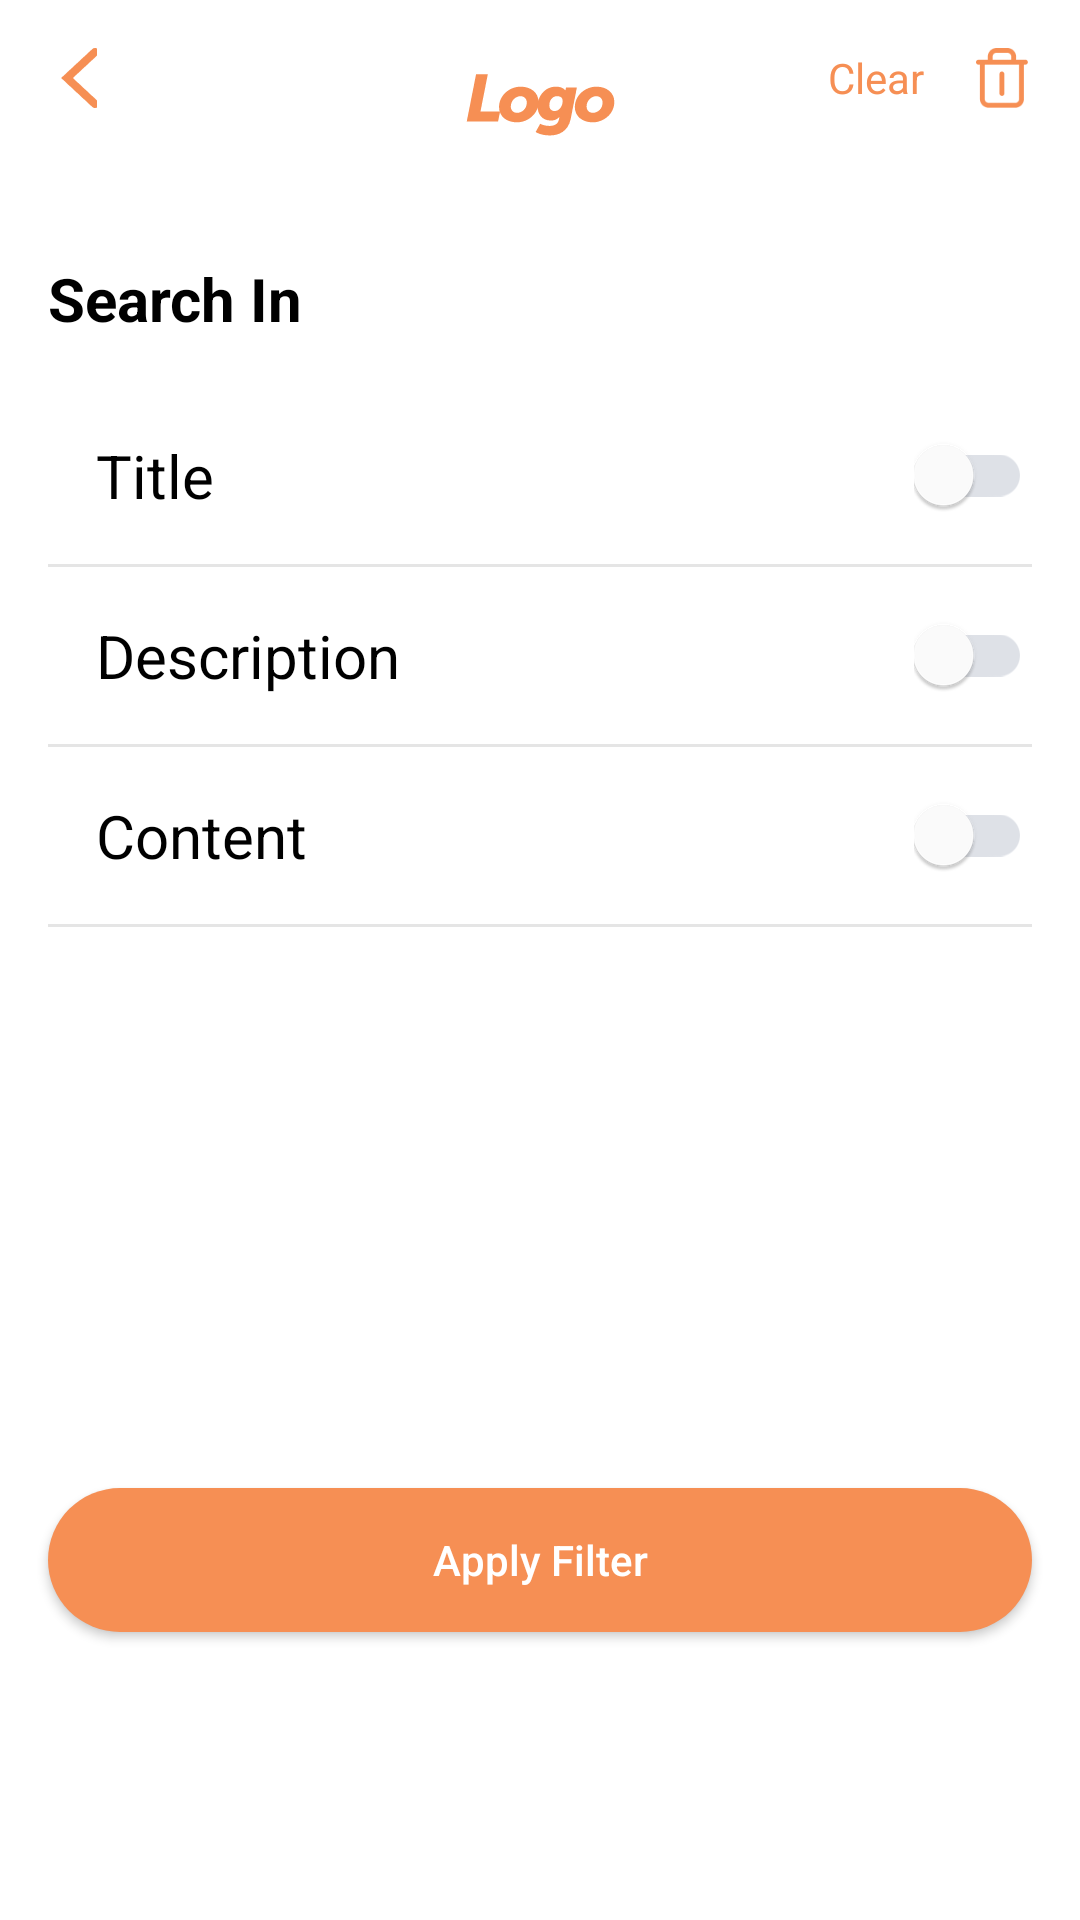

Icons on this 1080px x 1920px Android screen, each with its box as (x1, y1, x2, y2):
back: (61, 48, 97, 108)
trash: (976, 48, 1028, 108)
